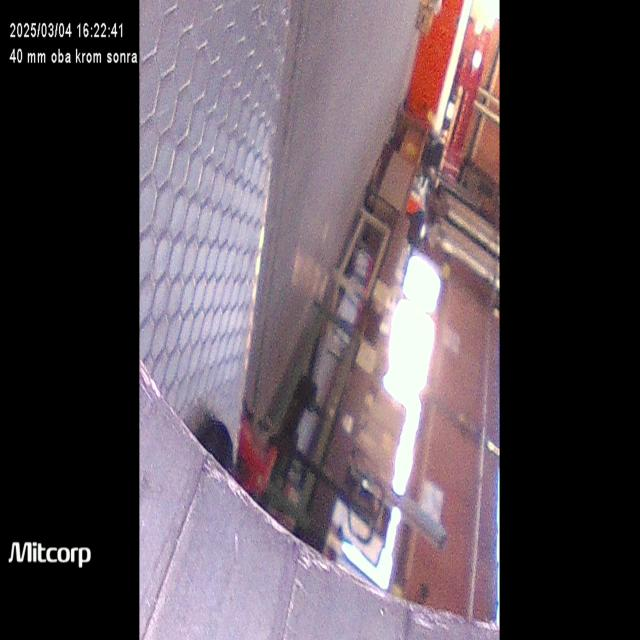hata_7.1: (139, 361, 337, 595), (340, 567, 505, 635)
